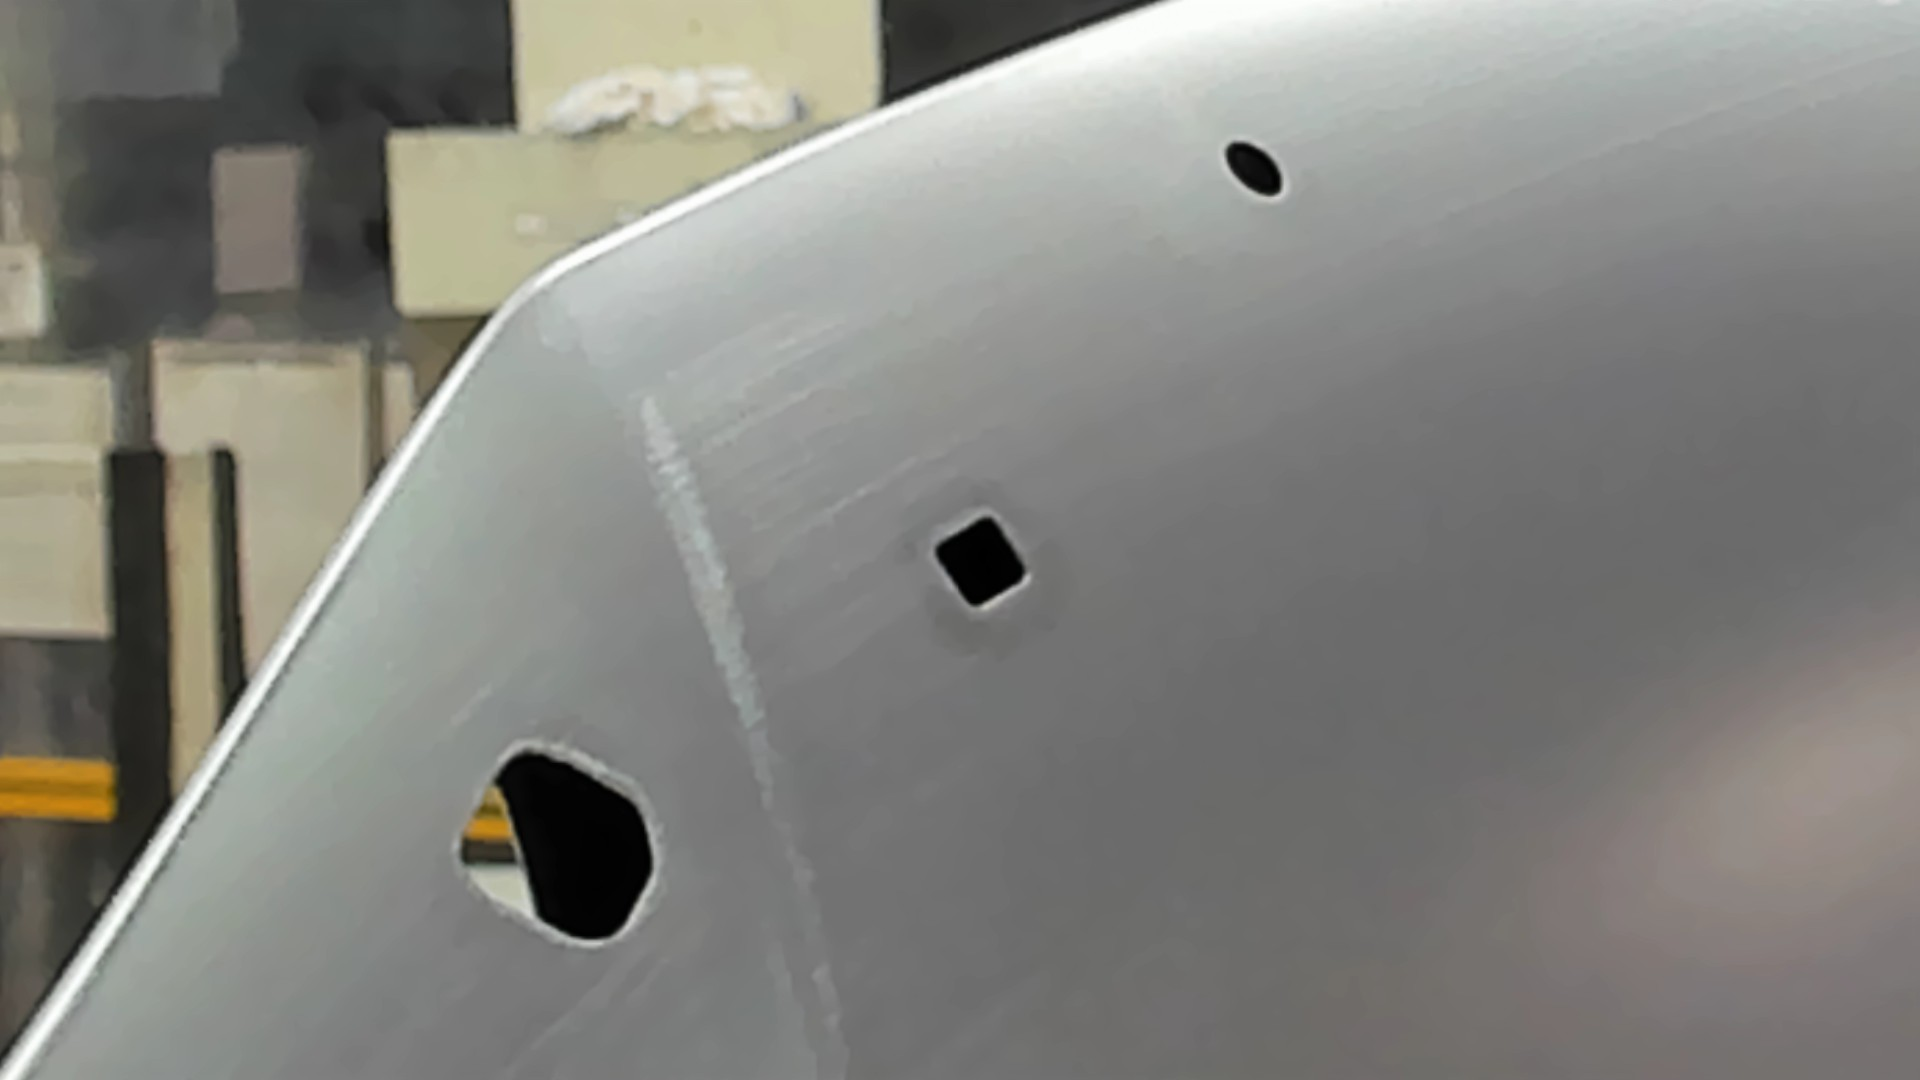chico: (1220, 135, 1288, 200)
grande: (452, 735, 665, 953)
mediano: (920, 505, 1034, 618)
